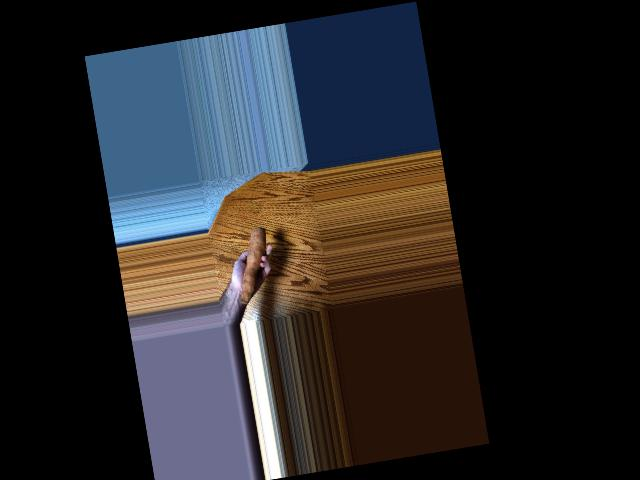sweet_potato: (228, 229, 271, 305)
